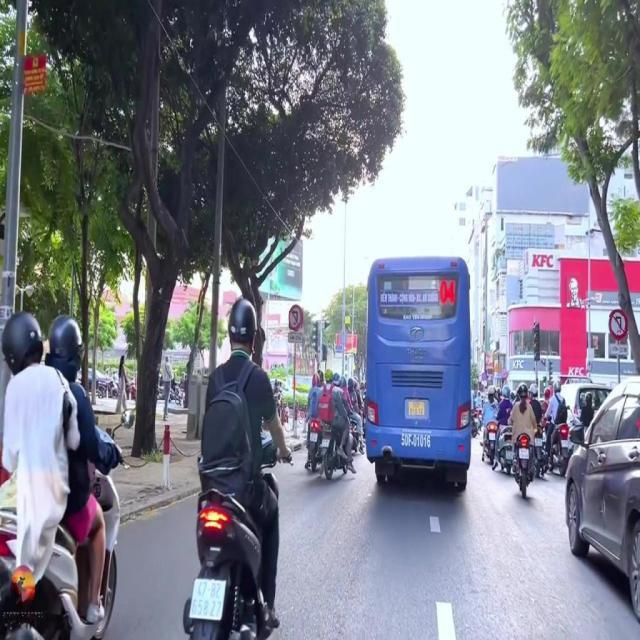123a-cam-re-trai: (608, 309, 629, 340), (287, 304, 304, 332)
